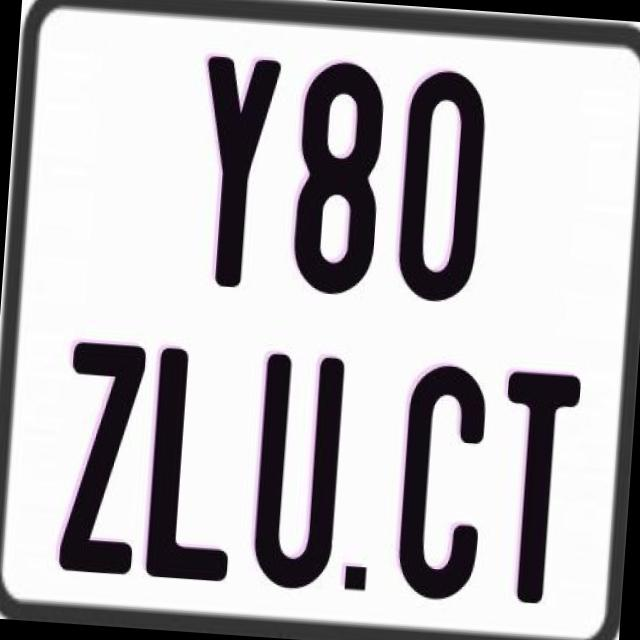0: (393, 68, 487, 310)
8: (288, 59, 384, 306)
C: (394, 362, 496, 600)
L: (144, 342, 248, 577)
T: (492, 365, 586, 600)
U: (248, 348, 348, 590)
Y: (187, 53, 281, 292)
Z: (56, 336, 148, 570)
